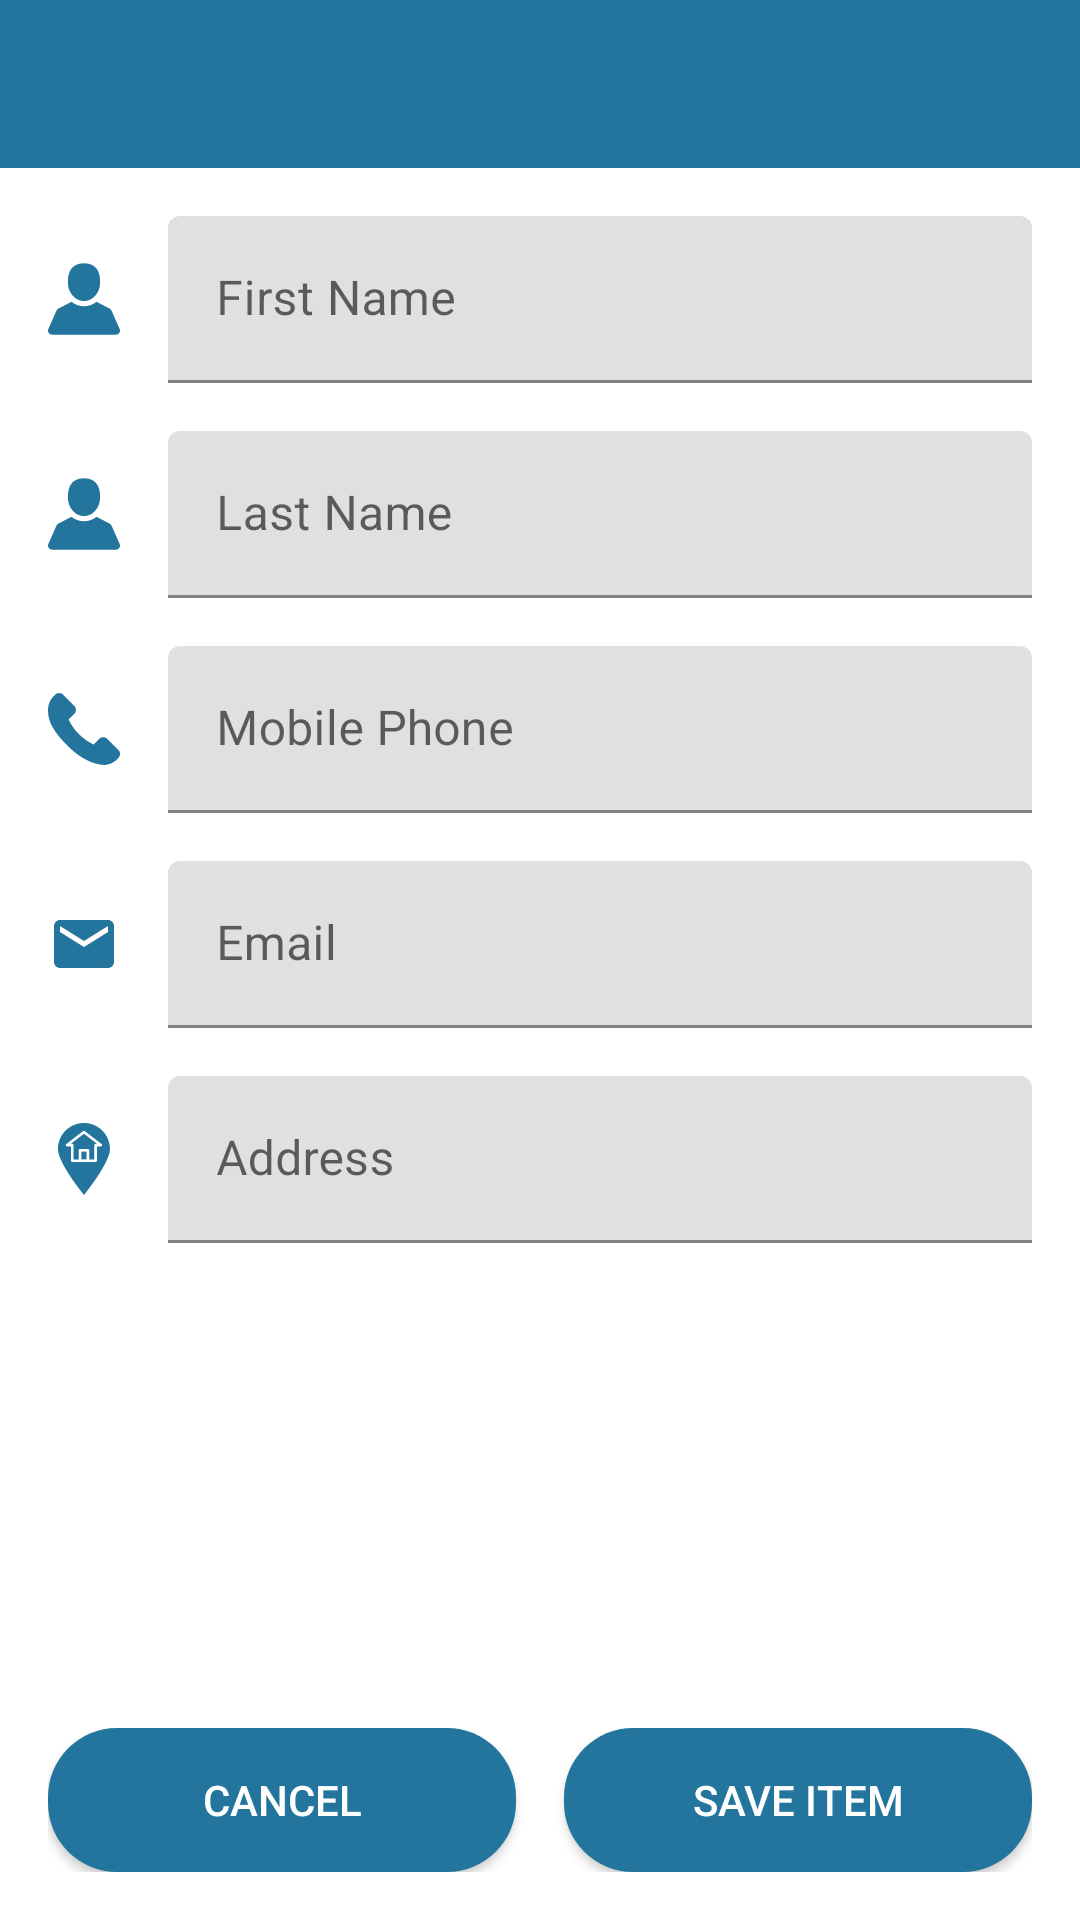

Icon bounding boxes for this 1080x1920 phone screenshot, format (x1, y1, x2, y2):
user: (48, 263, 120, 335), (48, 478, 120, 550)
